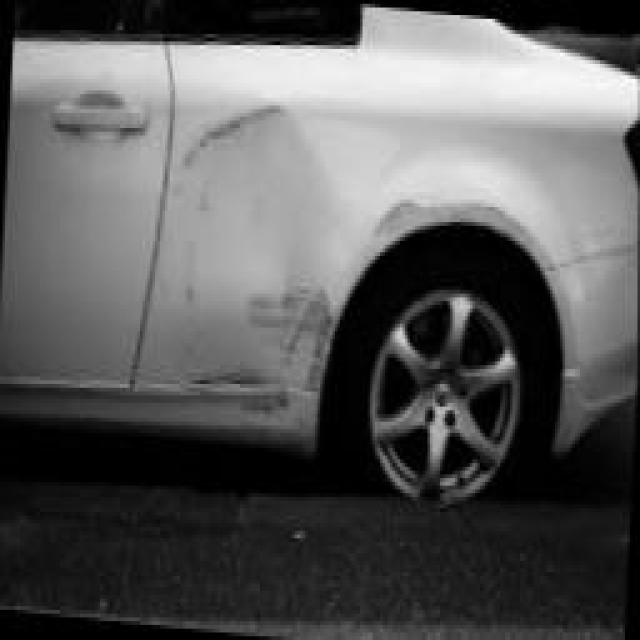Bumper: (562, 301, 639, 453)
Fender: (135, 76, 450, 436)
